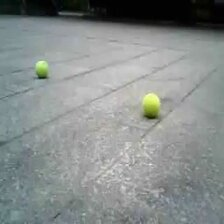tennis: (141, 94, 160, 117), (35, 61, 48, 76)
